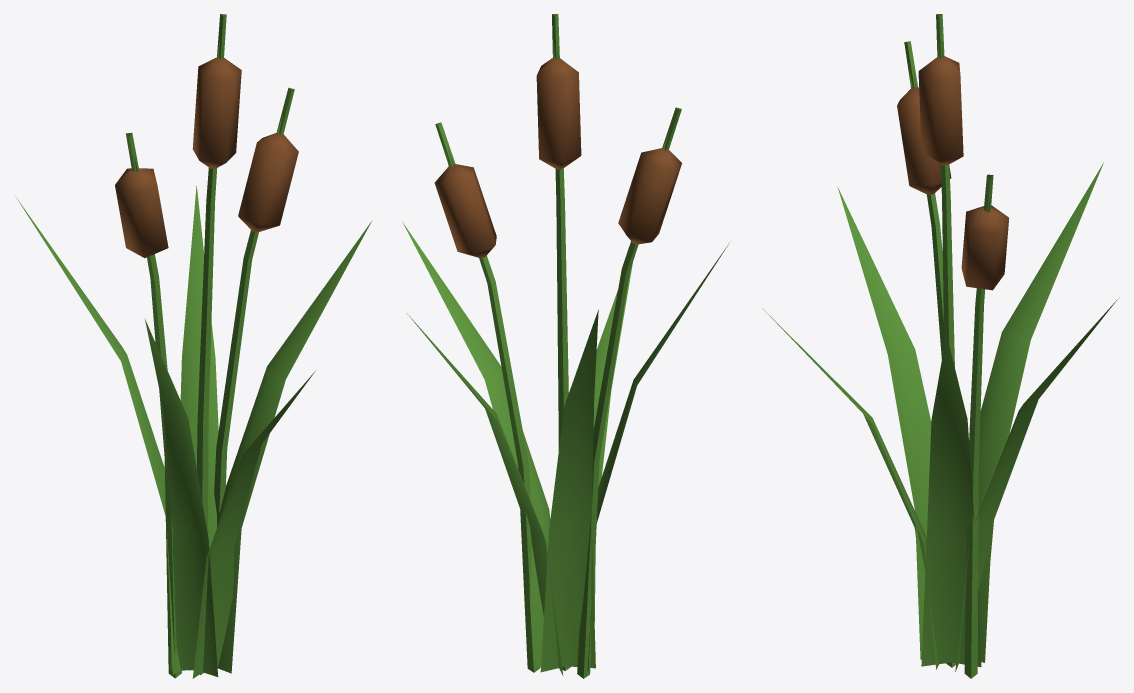
File: reed_clump.glb
3 views of the same model, side by side, from view 1: azimuth 30°, elevation 25°; view 2: azimuth 150°, elevation 25°; view 3: azimuth 270°, elevation 25° (orthographic).
Parts seen in each view (by area): view 1: body; view 2: body; view 3: body.
Boxes of the visible parts, bbox=[...] form: body: bbox=[16, 14, 372, 678]; body: bbox=[402, 14, 729, 678]; body: bbox=[762, 14, 1119, 678].
Bounding box in the file's own units: 0.5132 × 1.14 × 0.5635.
